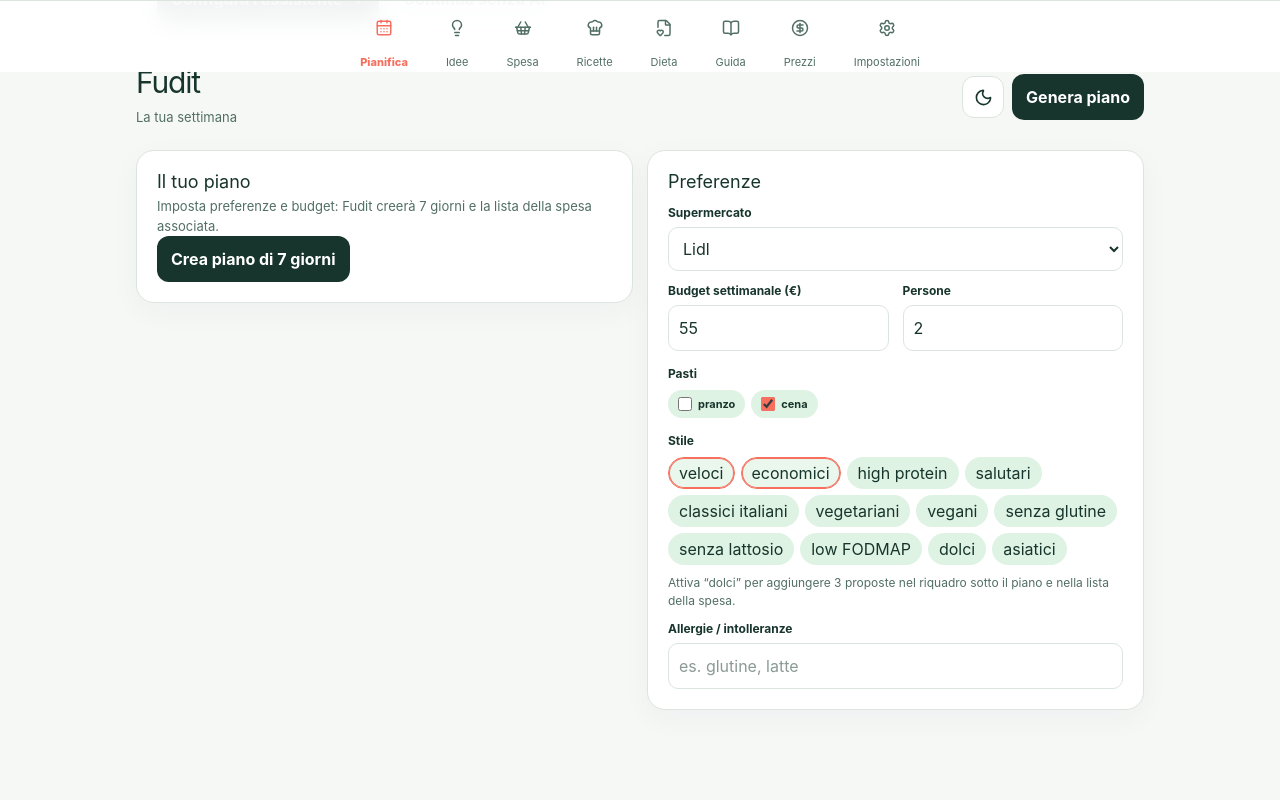
flussi principali Fudit › genera e salva tre dolci insieme al piano
The image size is (1280, 800).
(page scrolled)
Expected: the heading "Il tuo piano" is shown, [157, 171, 251, 192]
Click the button "dolci".
click(957, 549)  # box [928, 533, 986, 565]
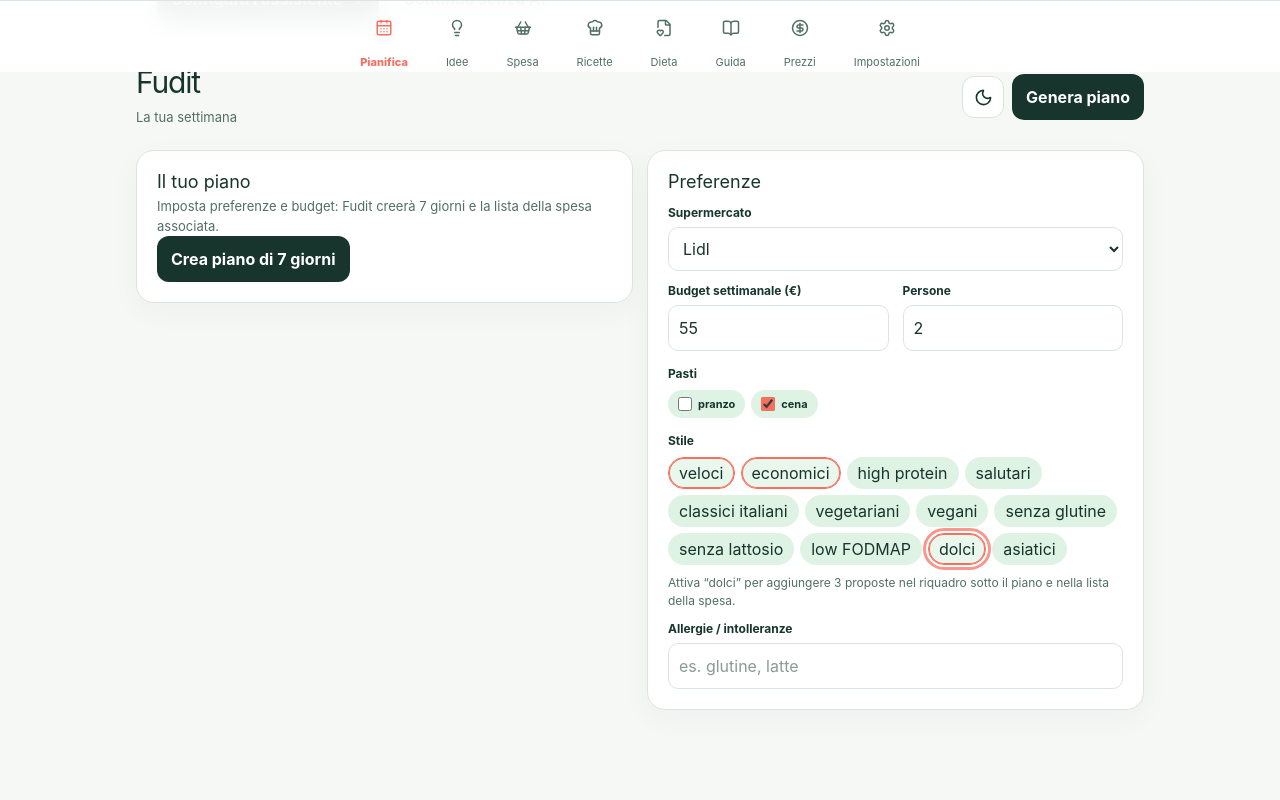
Click the button "Genera piano".
click(1078, 97)  # box [1012, 74, 1144, 120]
(page scrolled)
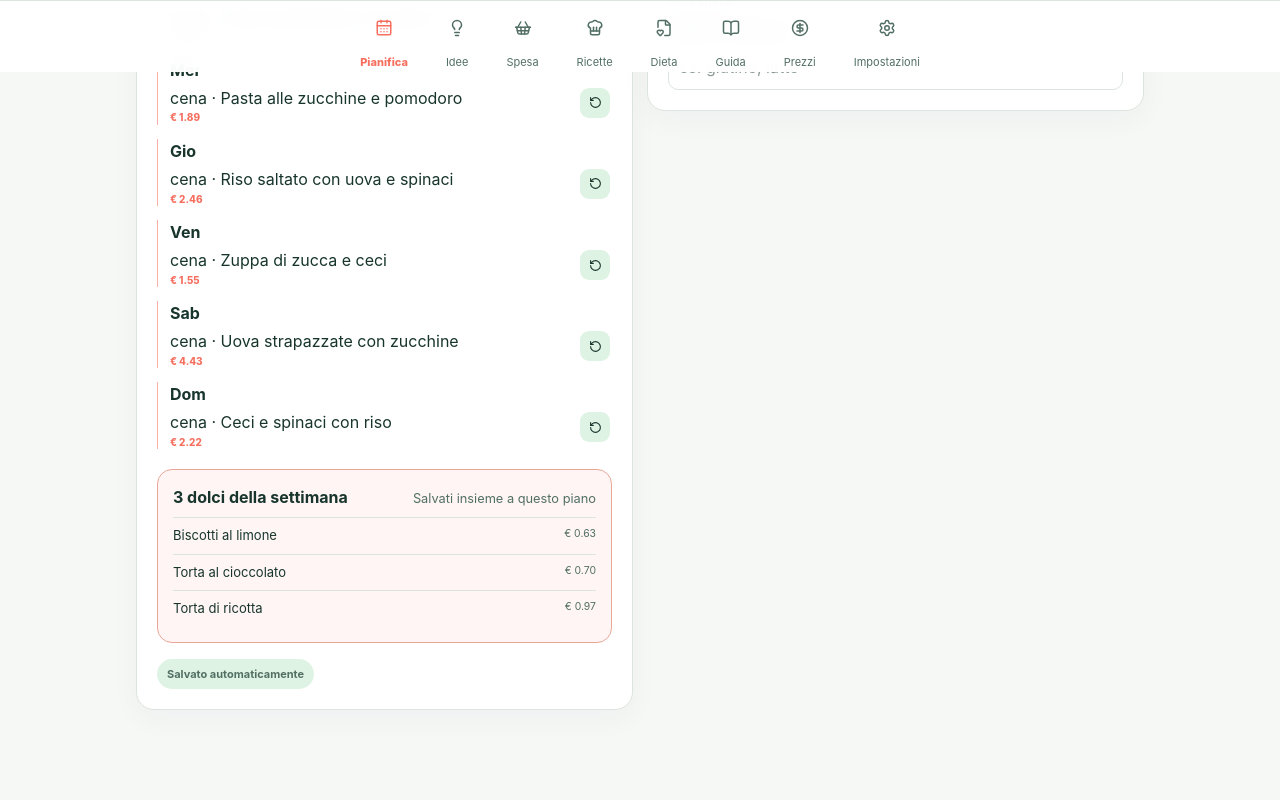
Expected: the text "3 dolci della settimana" is shown, [173, 485, 348, 509]
